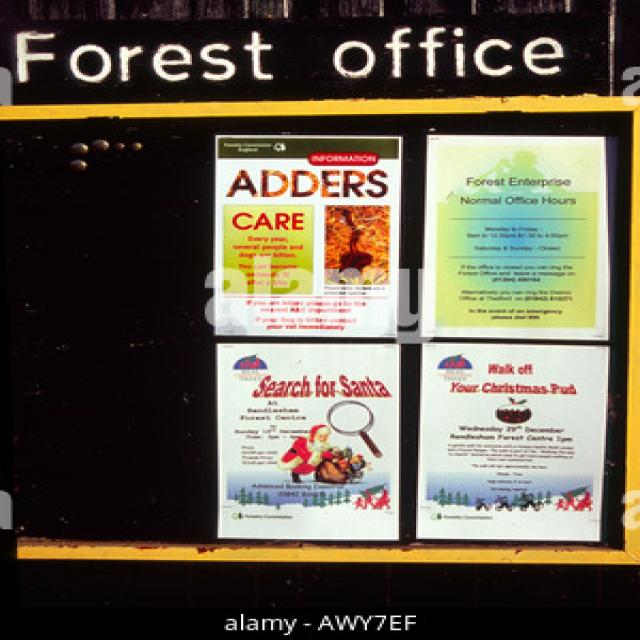paper: (207, 132, 407, 338), (418, 342, 615, 538), (215, 335, 403, 540), (425, 135, 608, 341)
